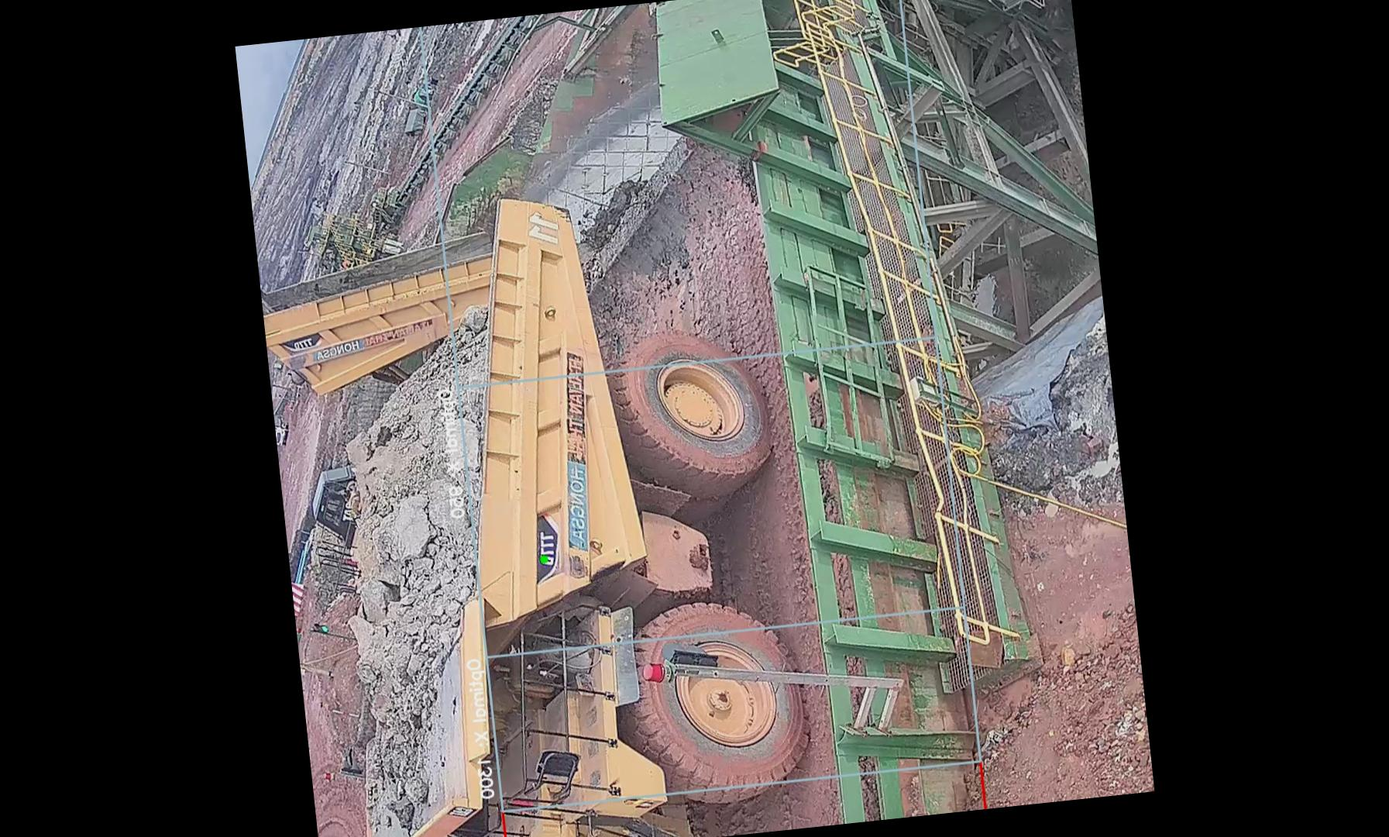company: (546, 332, 607, 574)
full_load: (322, 374, 524, 658)
mining_truck: (285, 163, 818, 837)
tail_number: (516, 198, 571, 261)
truck_size: (521, 507, 566, 592)
